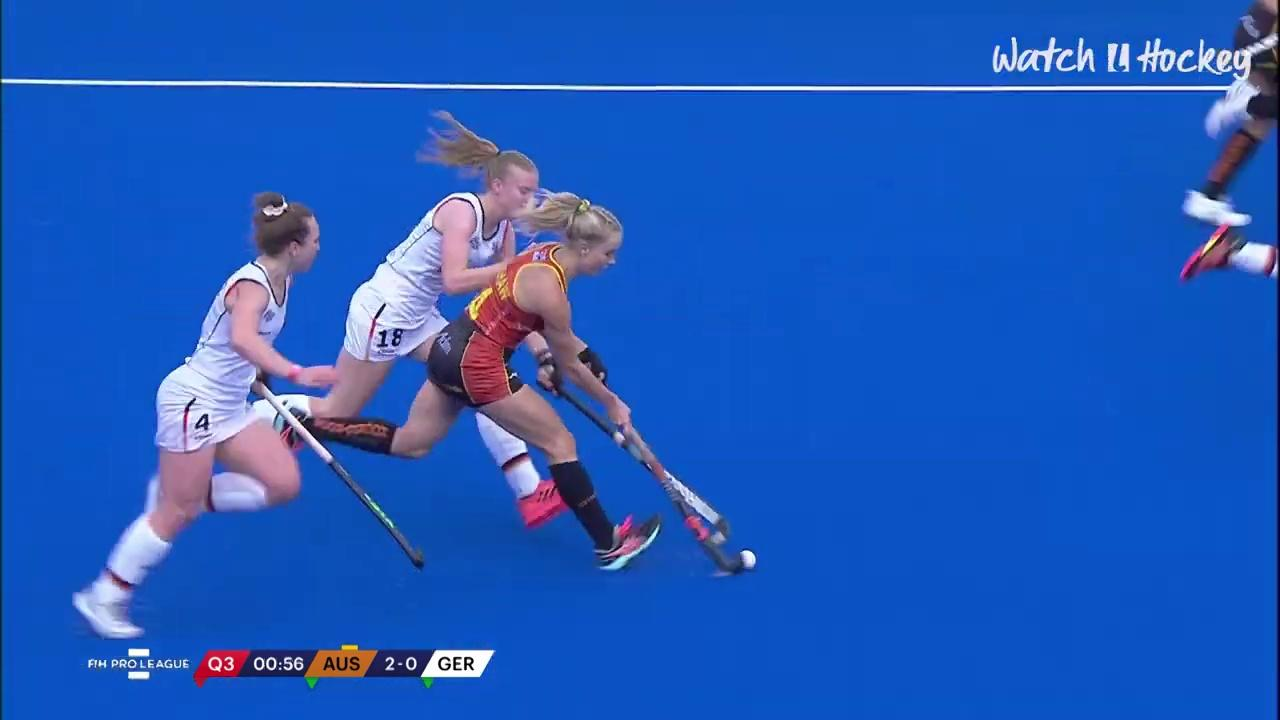ball: (710, 524, 777, 591)
